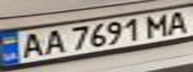1: (121, 16, 145, 42)
6: (87, 20, 112, 47)
7: (66, 22, 90, 52)
9: (103, 19, 127, 46)
A: (15, 30, 48, 60), (39, 27, 69, 55), (160, 9, 190, 35)
M: (142, 11, 175, 38)
